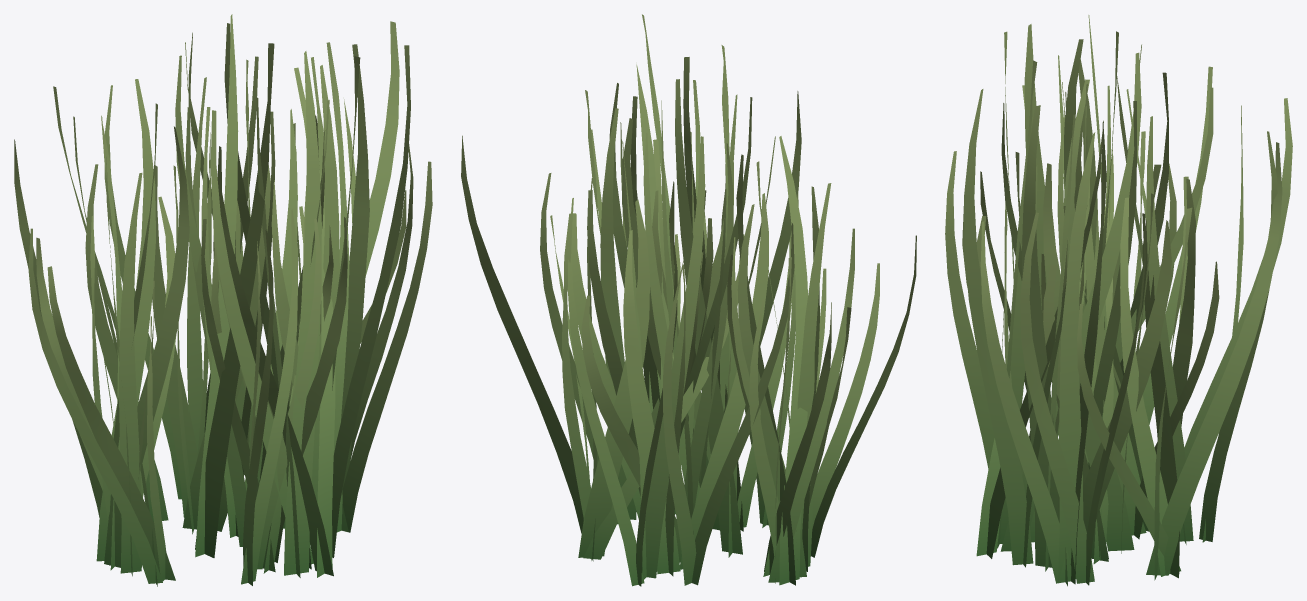
Rendered from grass_large.glb.
The picture shows the model from 3 angles, left to right: view 1: azimuth 30°, elevation 25°; view 2: azimuth 150°, elevation 25°; view 3: azimuth 270°, elevation 25°; orthographic projection. The views are drawn at different scales.
Visible parts, largest first — view 1: grass_large; view 2: grass_large; view 3: grass_large.
Part boxes in pixels (left/top/right/bottom): grass_large: left=14, top=14, right=432, bottom=586; grass_large: left=461, top=14, right=916, bottom=586; grass_large: left=945, top=15, right=1292, bottom=586.
Size of the model in its own units: 0.382 by 0.4397 by 0.2694.
